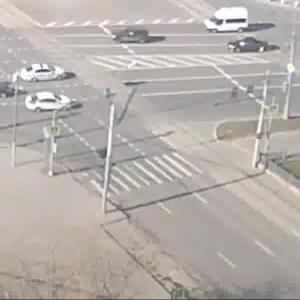car: (15, 89, 82, 115), (105, 23, 155, 47), (206, 7, 249, 32), (23, 63, 67, 84), (231, 36, 266, 55)
